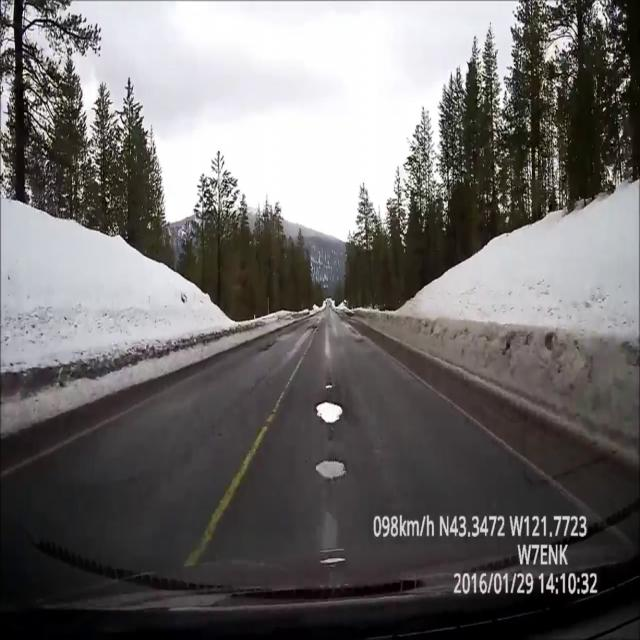Pothole: (314, 400, 346, 423), (316, 458, 350, 478), (309, 325, 317, 329)
